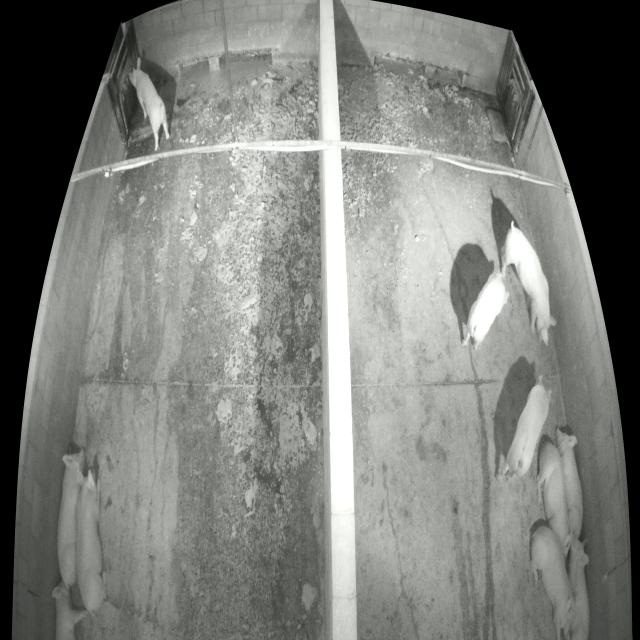pig: (501, 228, 557, 347), (496, 375, 552, 483), (529, 526, 579, 639), (75, 471, 106, 612), (534, 440, 570, 558), (56, 449, 85, 588), (128, 56, 170, 151), (461, 271, 510, 352), (554, 430, 584, 540), (566, 536, 591, 639), (51, 582, 87, 639)
